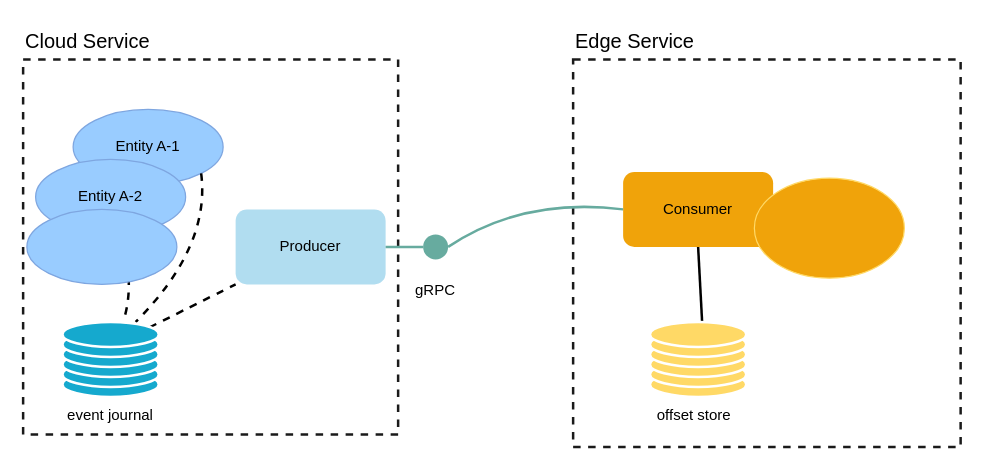
Image size: 983x469. Some labels were removed from this diagram. Each missing label, with the centre of its shape:
"Entity A-3" belongs at pixel 101 246.
"Projection consuming events" belongs at pixel 828 227.
